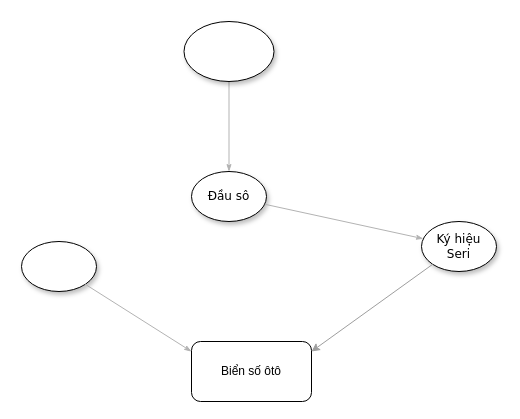
The diagram is 520 pixels wide and 419 high, and some of its shapes have lost their labels. The centre of each missing label's shape, as x and y in pixels:
"Loại xe" goes at (x=59, y=267).
"Tỉnh" goes at (x=229, y=52).
